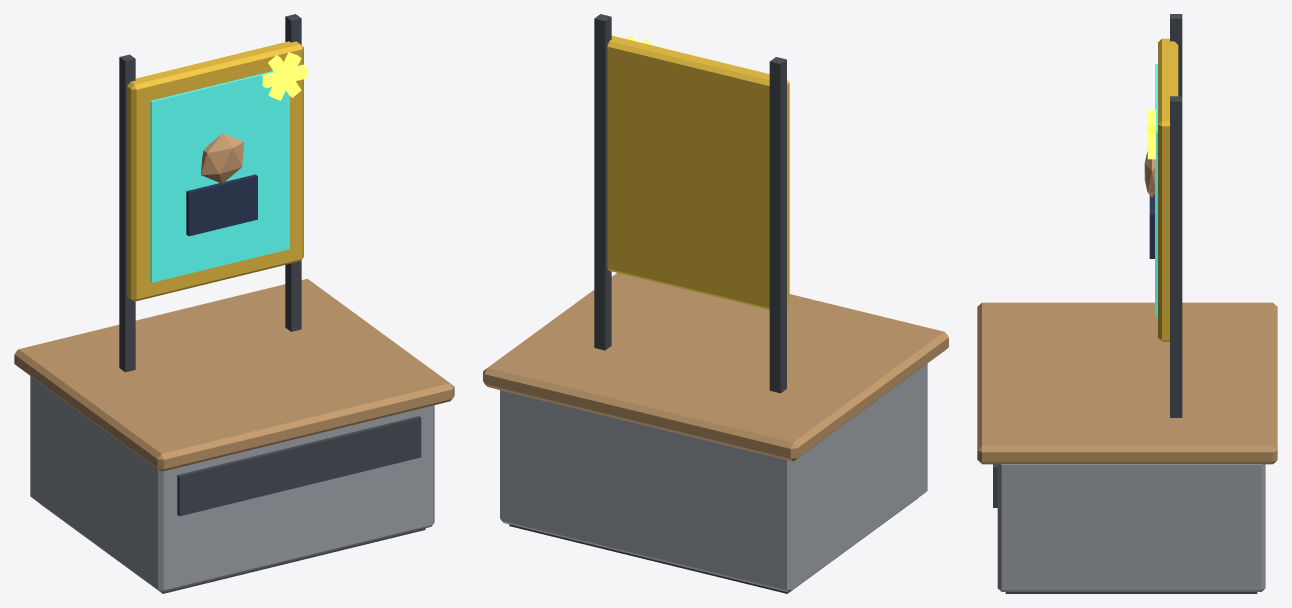
The model's file is poster_p0_4.glb.
The picture shows the model from 3 angles, left to right: view 1: azimuth 30°, elevation 25°; view 2: azimuth 150°, elevation 25°; view 3: azimuth 270°, elevation 25°; orthographic projection. The views are drawn at different scales.
Visible parts, largest first — view 1: poster_p0_4_mesh_Desk, poster_p0_4_mesh; view 2: poster_p0_4_mesh_Desk, poster_p0_4_mesh; view 3: poster_p0_4_mesh_Desk, poster_p0_4_mesh.
Part boxes in pixels (<box>): poster_p0_4_mesh_Desk: <box>14,278,454,593</box>; poster_p0_4_mesh: <box>119,14,307,372</box>; poster_p0_4_mesh_Desk: <box>483,273,948,593</box>; poster_p0_4_mesh: <box>594,14,789,393</box>; poster_p0_4_mesh_Desk: <box>977,302,1277,593</box>; poster_p0_4_mesh: <box>1144,14,1182,417</box>.
Bounding box in the file's own units: 0.86 × 1.28 × 0.74.
